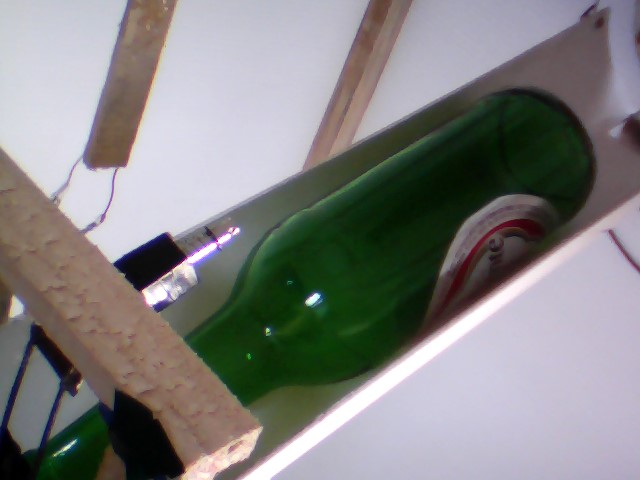vidrio: (172, 81, 604, 411)
